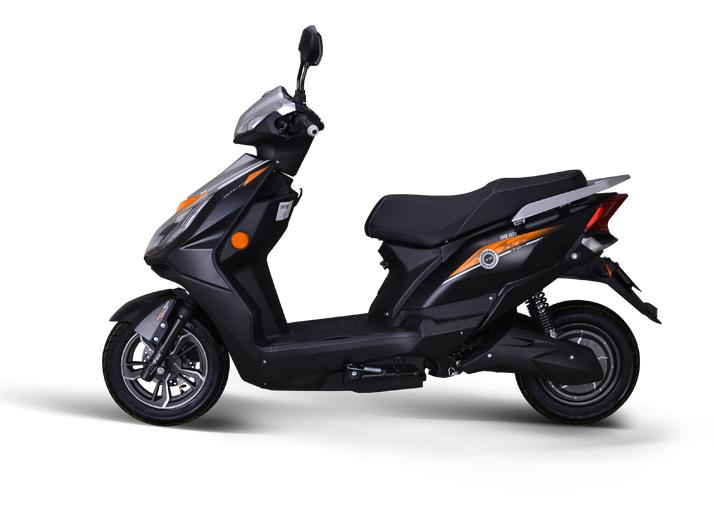电动车: (56, 13, 670, 436)
